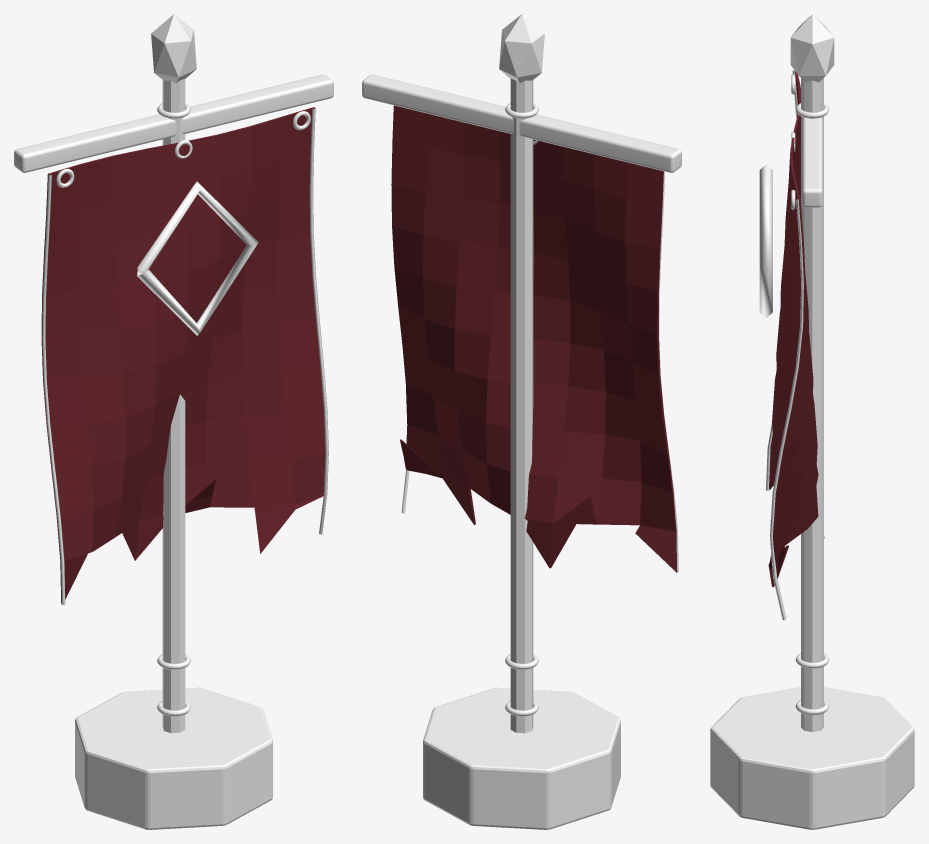
File: AS_18_Banner_Torn.glb
3 views of the same model, side by side, from view 1: azimuth 30°, elevation 25°; view 2: azimuth 150°, elevation 25°; view 3: azimuth 270°, elevation 25° (orthographic).
Parts seen in each view (by area): view 1: AS_18_Banner_Torn__pennant, AS_18_Banner_Torn__foot, AS_18_Banner_Torn__pole, AS_18_Banner_Torn__crossbar, AS_18_Banner_Torn__banner sigil, AS_18_Banner_Torn__finial, AS_18_Banner_Torn__stitched side hem, AS_18_Banner_Torn__stitched side hem.001; view 2: AS_18_Banner_Torn__pennant, AS_18_Banner_Torn__foot, AS_18_Banner_Torn__pole, AS_18_Banner_Torn__crossbar, AS_18_Banner_Torn__finial; view 3: AS_18_Banner_Torn__foot, AS_18_Banner_Torn__pennant, AS_18_Banner_Torn__pole, AS_18_Banner_Torn__finial, AS_18_Banner_Torn__banner sigil, AS_18_Banner_Torn__crossbar, AS_18_Banner_Torn__stitched side hem.
Boxes of the visible parts, x1,y1,x2,y2 form: AS_18_Banner_Torn__pennant: (41, 107, 325, 603); AS_18_Banner_Torn__foot: (75, 687, 272, 829); AS_18_Banner_Torn__pole: (162, 78, 185, 733); AS_18_Banner_Torn__crossbar: (14, 74, 333, 172); AS_18_Banner_Torn__banner sigil: (137, 181, 258, 335); AS_18_Banner_Torn__finial: (151, 14, 196, 83); AS_18_Banner_Torn__stitched side hem: (309, 107, 328, 534); AS_18_Banner_Torn__stitched side hem.001: (42, 173, 65, 604); AS_18_Banner_Torn__pennant: (391, 105, 677, 572); AS_18_Banner_Torn__foot: (423, 687, 620, 829); AS_18_Banner_Torn__pole: (510, 78, 533, 733); AS_18_Banner_Torn__crossbar: (362, 74, 681, 172); AS_18_Banner_Torn__finial: (499, 14, 544, 83); AS_18_Banner_Torn__foot: (710, 687, 914, 829); AS_18_Banner_Torn__pennant: (768, 70, 824, 587); AS_18_Banner_Torn__pole: (801, 78, 823, 731); AS_18_Banner_Torn__finial: (790, 14, 834, 82); AS_18_Banner_Torn__banner sigil: (759, 164, 772, 318); AS_18_Banner_Torn__crossbar: (802, 118, 822, 207); AS_18_Banner_Torn__stitched side hem: (769, 199, 803, 620).
Bounding box in the file's own units: 1.4 × 3.32 × 0.7946.
